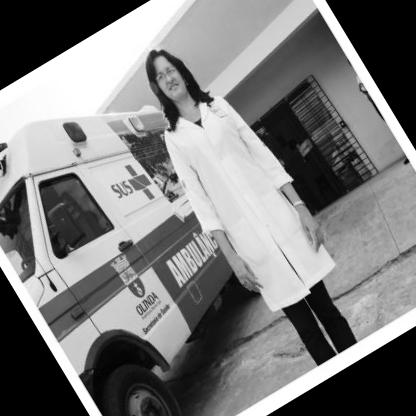ambulance: (1, 50, 308, 416)
